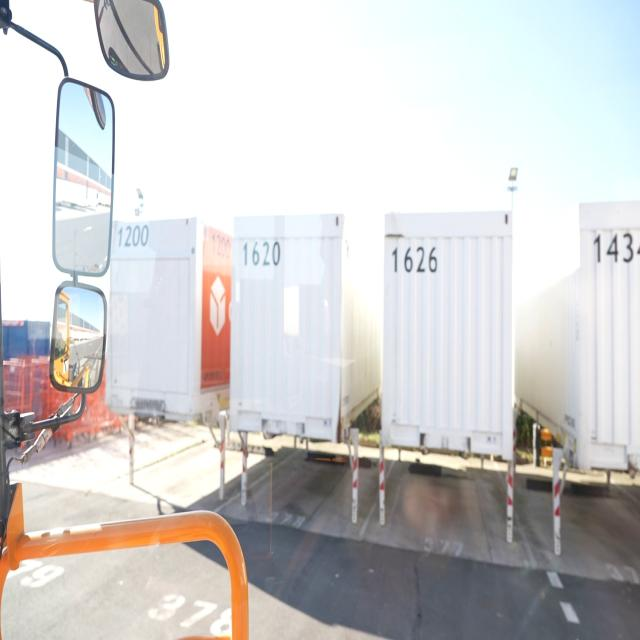Code: (389, 242, 439, 280), (239, 238, 284, 272), (112, 222, 150, 250)
